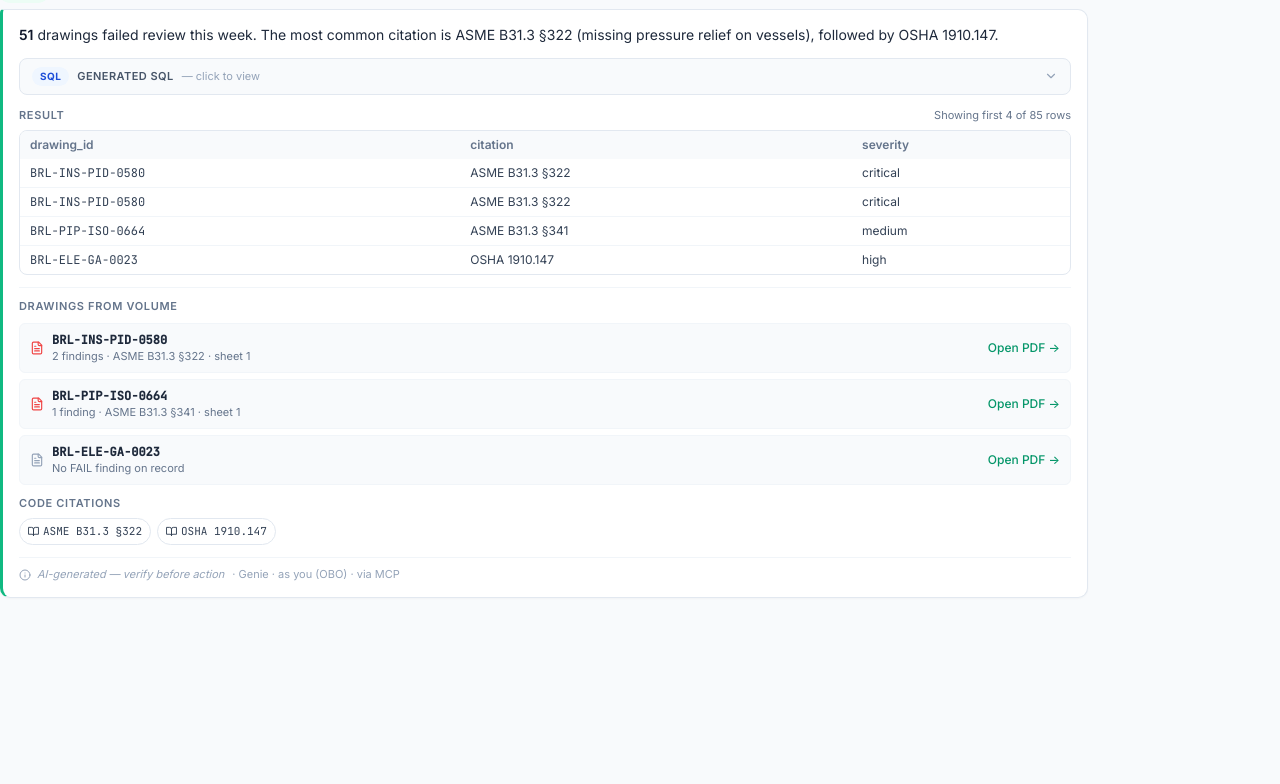
Scenario: AssistantMessage › renders answer, SQL card, truncated result table, grouped source chips and the verify footer
The image size is (1280, 784).
Check: the text "drawings failed review this week" is shown, box [34,26,999,43]
What coordinates should you click on to do the following:
click the button "SQL Generated SQL — click to view"
I would click on:
 (51, 76)
Its box is [20,59,1070,94].
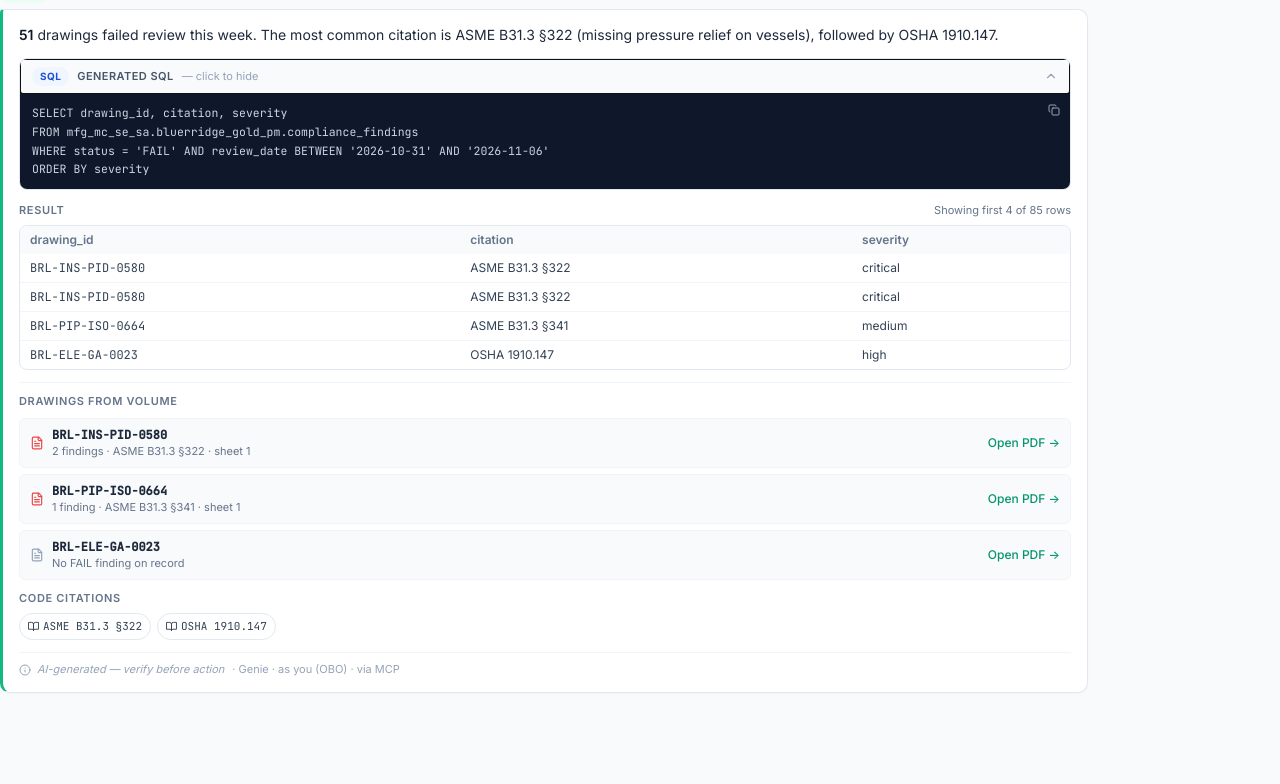
Check: the number of rows is 5, box [20,226,1070,254]; [20,254,1070,282]; [20,282,1070,312]; [20,312,1070,340]; [20,340,1070,369]
Check: the text with test id "sql-body" shows "SELECT drawing_id, citation, severity", box [32,105,550,176]
What coordinates should you click on to do the following:
click the button "OSHA 1910.147"
I would click on:
 (216, 627)
Its box is [157,613,276,640].
(page scrolled)
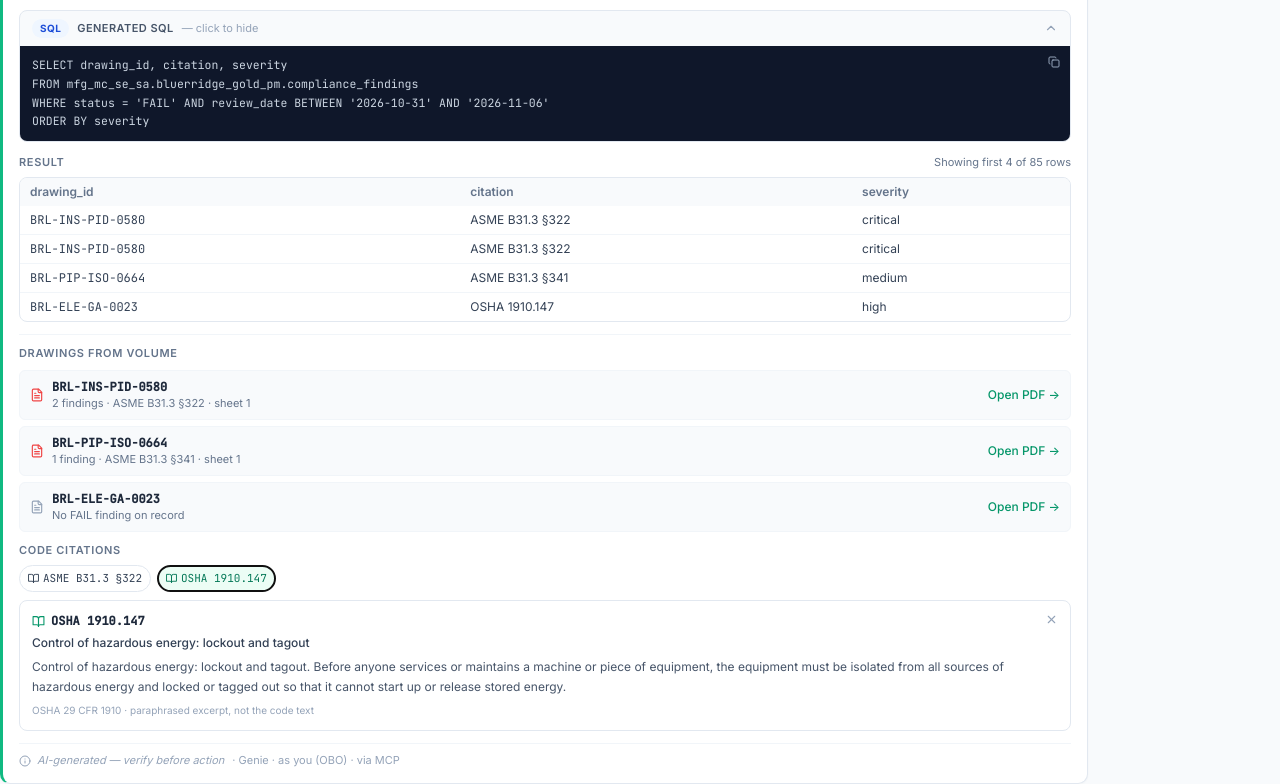
Check: the text "AI-generated — verify before action" is shown, box [19,752,224,769]
Check: the text "Control of hazardous energy: lockout and tagout" is shown, box [32,635,310,650]
